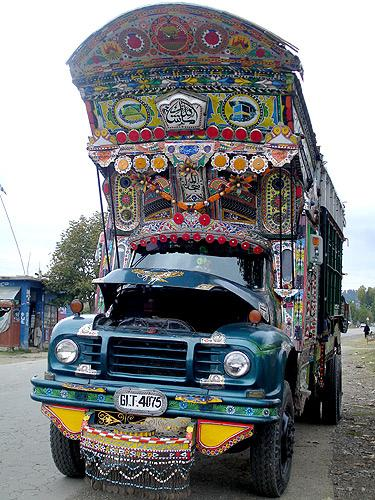truck: (30, 2, 350, 498)
